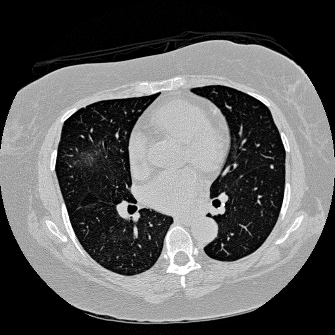nodule: (270, 165, 274, 169)
